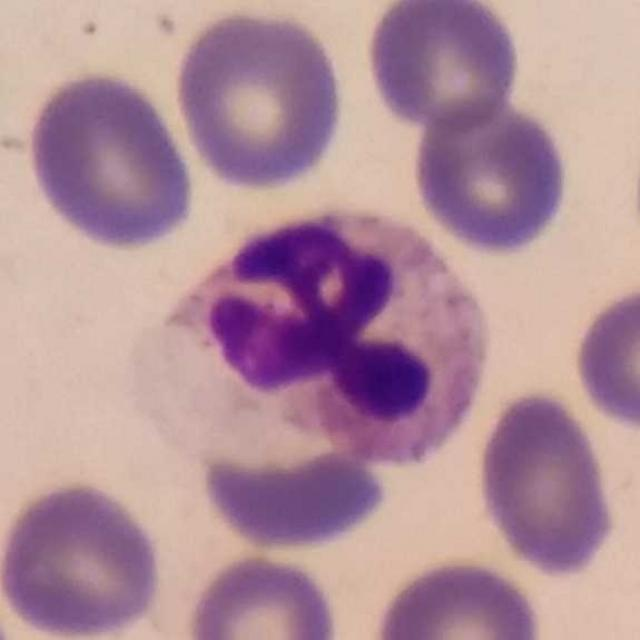Neutrophil: (139, 196, 507, 492)
RBC: (169, 2, 351, 195), (22, 65, 200, 254), (472, 386, 621, 580), (1, 475, 168, 640), (409, 97, 573, 259), (360, 1, 526, 135), (194, 443, 394, 553), (370, 553, 548, 640), (181, 548, 342, 640), (569, 278, 640, 434)
